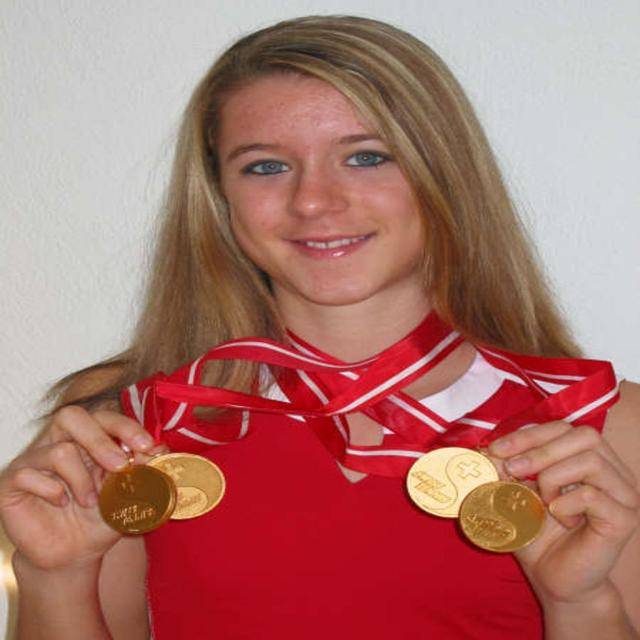Face: (201, 59, 442, 304)
